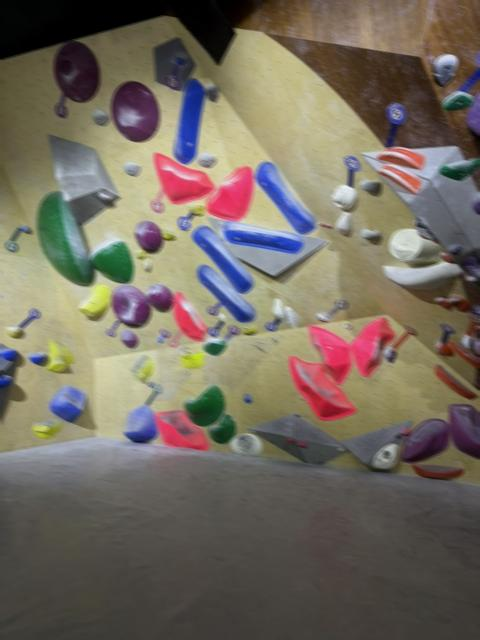crimp: (389, 243, 416, 260), (242, 324, 256, 334), (316, 313, 328, 322), (323, 223, 334, 229)
downhold: (433, 54, 457, 86), (360, 179, 382, 196), (92, 109, 110, 126), (360, 229, 381, 243), (204, 82, 219, 101), (197, 152, 216, 167), (123, 161, 140, 175)
jib: (243, 393, 251, 402), (344, 322, 351, 329), (156, 336, 163, 343)
jug: (438, 158, 480, 180), (46, 339, 74, 371), (208, 414, 235, 442), (331, 184, 357, 211), (443, 91, 473, 109), (335, 212, 352, 235), (203, 338, 226, 355), (180, 351, 203, 368), (160, 223, 175, 239), (96, 190, 113, 204), (383, 346, 395, 362), (188, 204, 204, 215), (135, 246, 145, 258), (19, 224, 33, 232)
ledge: (254, 161, 316, 233), (289, 356, 356, 419), (192, 225, 253, 292), (196, 264, 254, 322), (153, 152, 213, 203), (111, 81, 159, 141), (206, 166, 253, 220), (223, 221, 303, 252), (154, 410, 209, 449), (90, 238, 133, 282), (172, 292, 207, 340), (184, 384, 224, 425), (434, 365, 477, 399), (411, 464, 463, 478), (131, 354, 154, 383), (436, 469, 437, 469)
pinch: (110, 284, 150, 326), (378, 164, 420, 193), (378, 146, 425, 169)
pocket: (53, 41, 99, 101)
sidepull: (36, 191, 94, 284), (173, 78, 204, 164), (350, 317, 395, 376), (307, 326, 350, 384), (272, 298, 286, 322), (284, 306, 297, 328)
sloper: (383, 262, 461, 289), (50, 385, 86, 422), (123, 404, 156, 441), (78, 284, 110, 317), (134, 221, 163, 250), (146, 283, 173, 311)
tape: (385, 102, 406, 146), (456, 54, 480, 92), (165, 57, 184, 89), (393, 326, 416, 347), (344, 156, 359, 186), (325, 299, 347, 319), (144, 383, 162, 405), (4, 228, 20, 252), (20, 309, 39, 328), (465, 314, 480, 338), (151, 188, 164, 212), (54, 93, 66, 116), (441, 323, 454, 344), (224, 324, 239, 341), (167, 331, 182, 347), (178, 214, 193, 229), (106, 320, 120, 336), (208, 321, 222, 336), (265, 318, 280, 331), (206, 301, 221, 314), (160, 329, 169, 337)
undercling: (141, 258, 153, 274)
volume: (363, 146, 480, 265), (208, 218, 327, 278), (48, 134, 119, 224), (248, 413, 346, 464), (343, 421, 411, 471), (294, 416, 346, 463), (153, 37, 195, 90), (388, 229, 439, 264)
